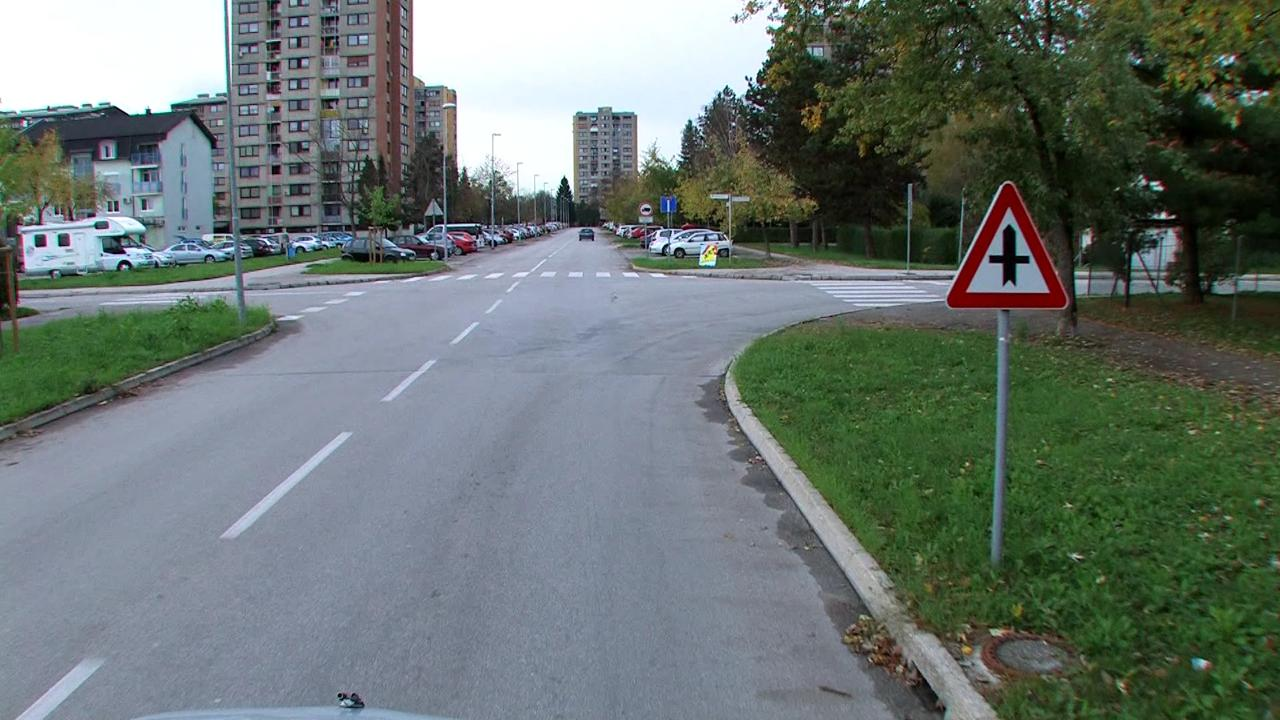Rectangle: (660, 194, 678, 214)
Round: (640, 202, 652, 217)
Triangle: (944, 178, 1070, 312)
